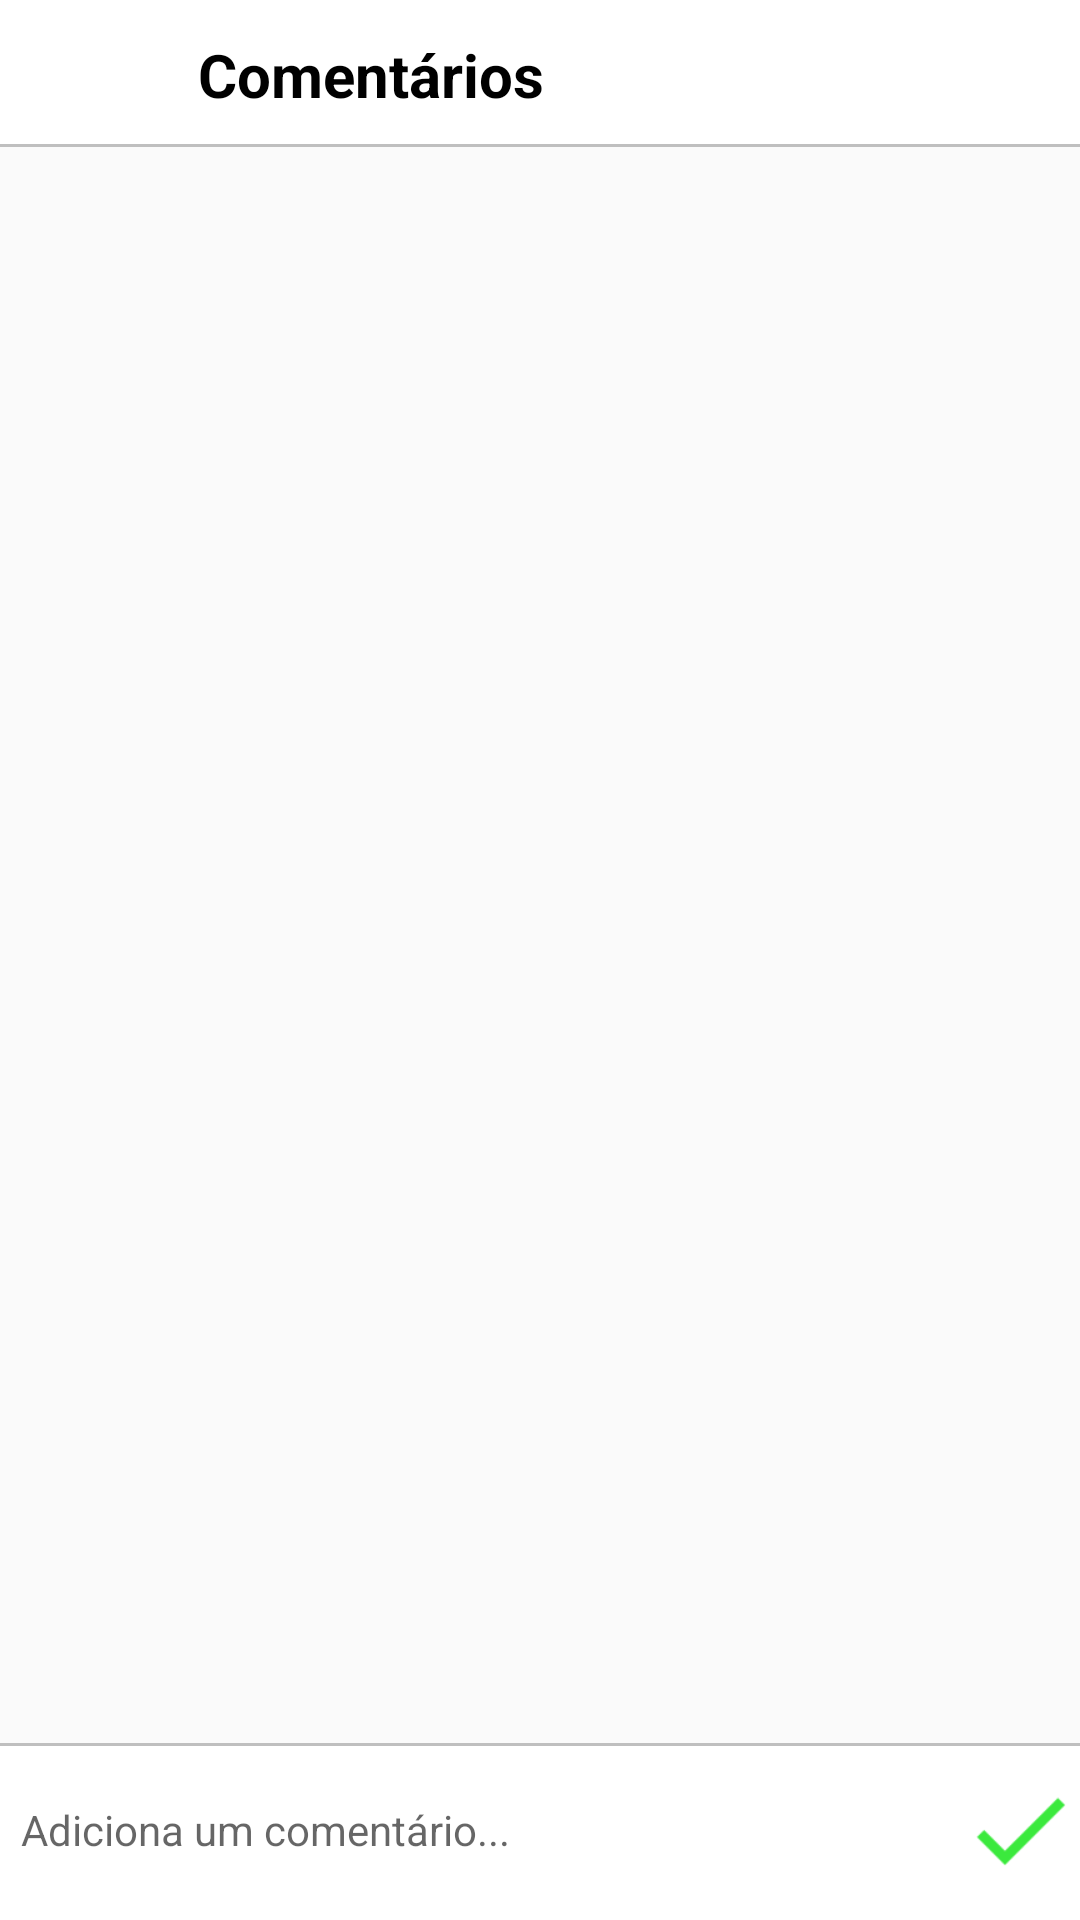

Where to tap for icons on this 1080x1920 app screen, as point (x, y):
checkmark: point (1021, 1831)
